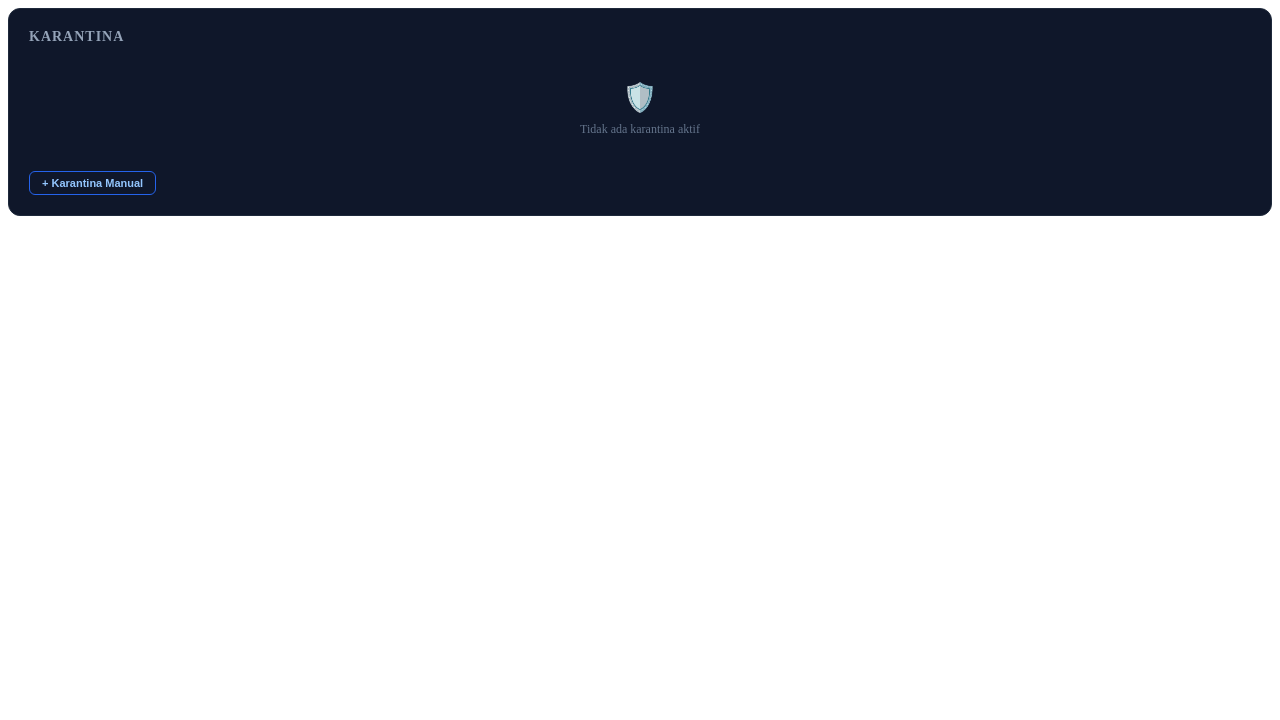
Scenario: QuarantineTable › shows API error message in form when addQuarantine rejects
Click the button with test id "toggle-manual-form": click(93, 183) 29,171 -> 156,195
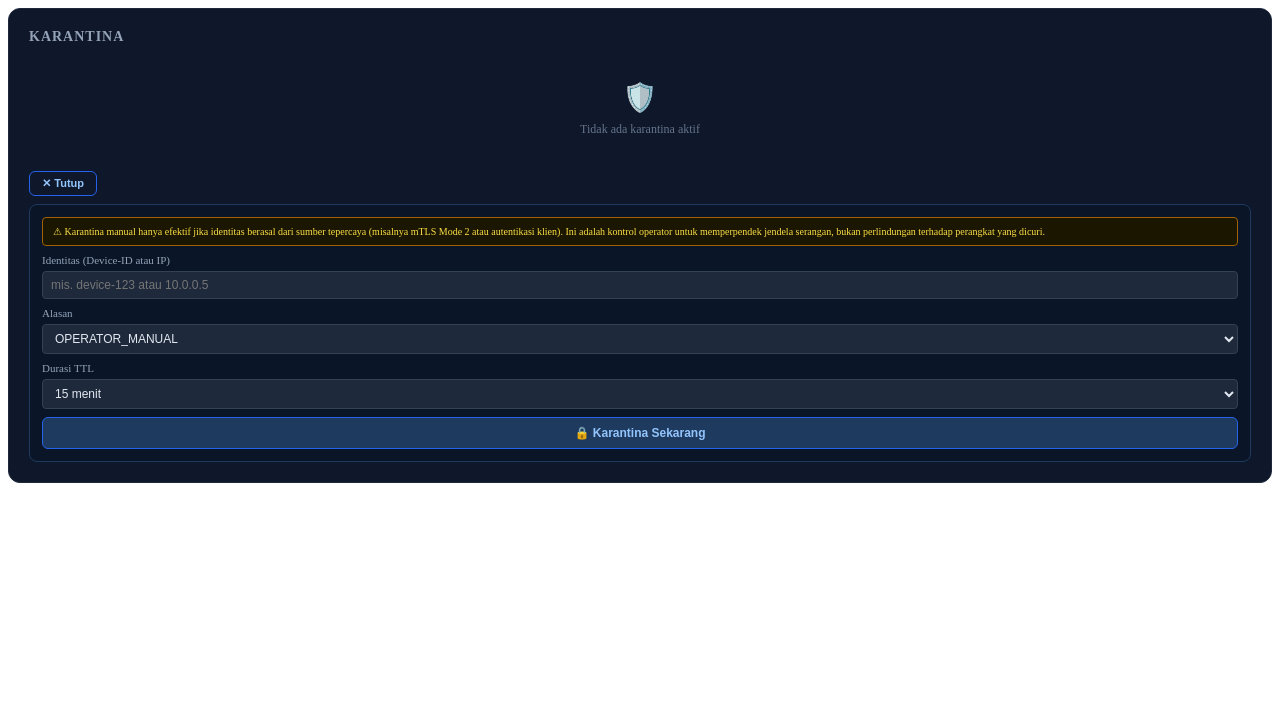
In the field with test id "input-identity": (640, 285) 42,271 -> 1238,299, type "suspect-02"
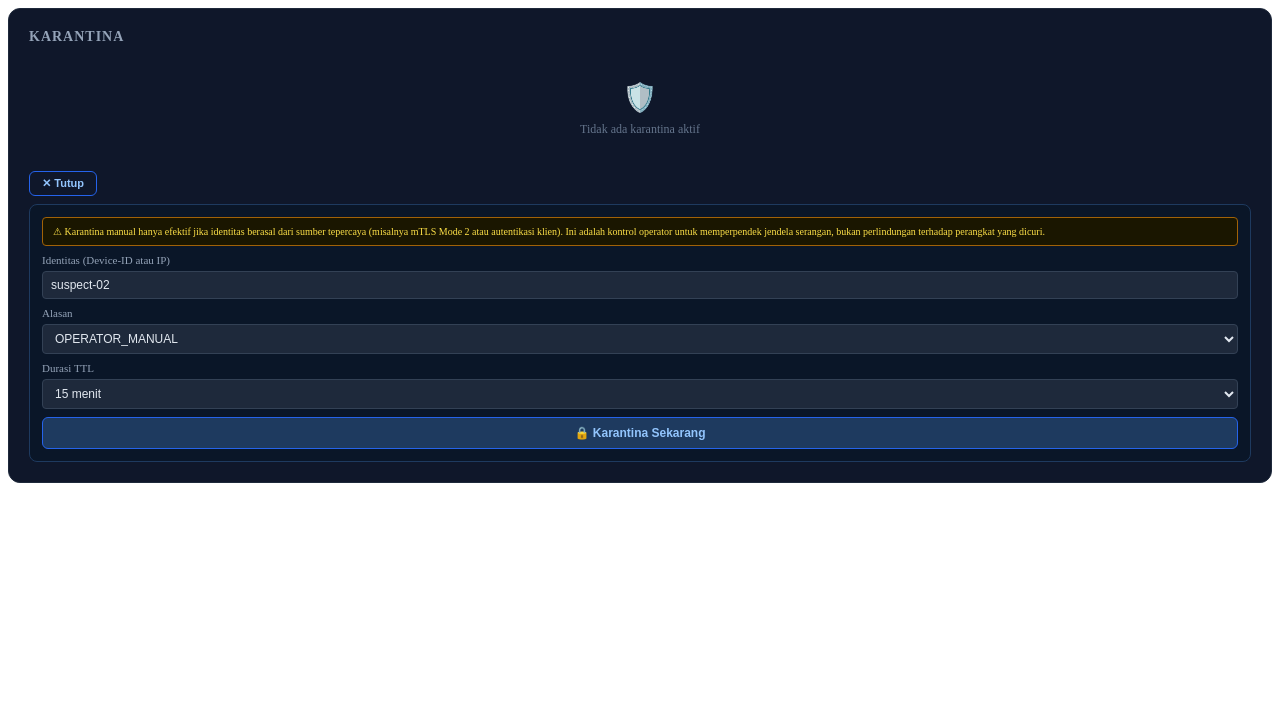
Click the button with test id "submit-quarantine": click(640, 433) 42,417 -> 1238,449
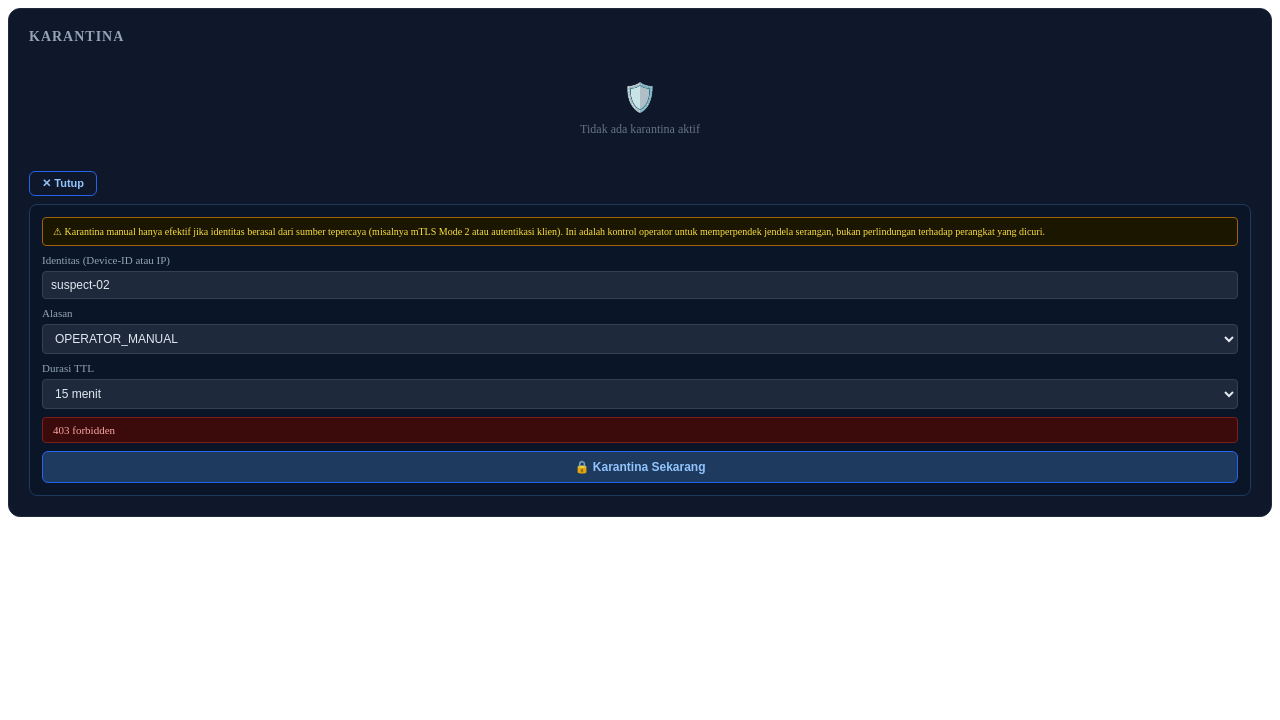
Now the text "403 forbidden" is shown, box 42,417 -> 1238,443
Now the text with test id "form-error" reads "403 forbidden", box 53,424 -> 115,436
